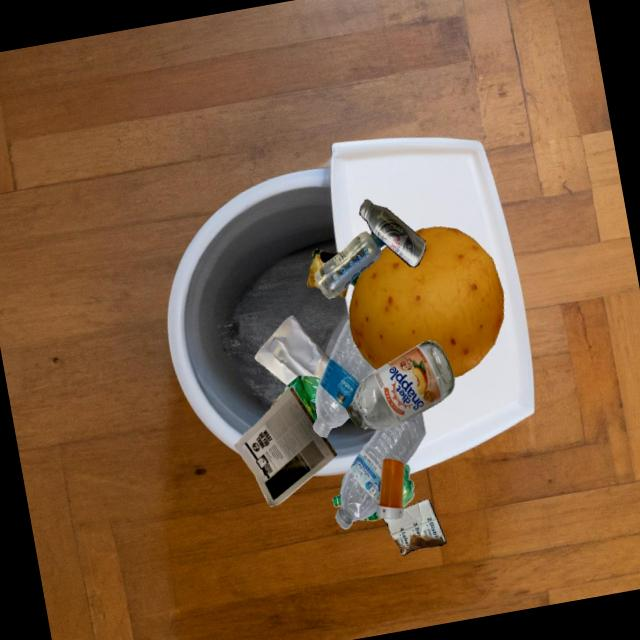biowaste: (349, 226, 503, 377), (307, 253, 324, 289)
cardboard: (383, 498, 446, 555)
glass: (346, 340, 454, 430), (312, 248, 339, 263)
metal: (359, 199, 425, 267)
paper: (234, 386, 337, 506), (254, 315, 329, 385)
plastic: (335, 411, 426, 529), (313, 317, 375, 437), (314, 231, 385, 298), (346, 473, 403, 514), (278, 375, 321, 421), (376, 458, 404, 518)
